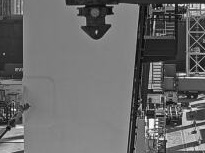twist_lock_2: (66, 1, 122, 50)
